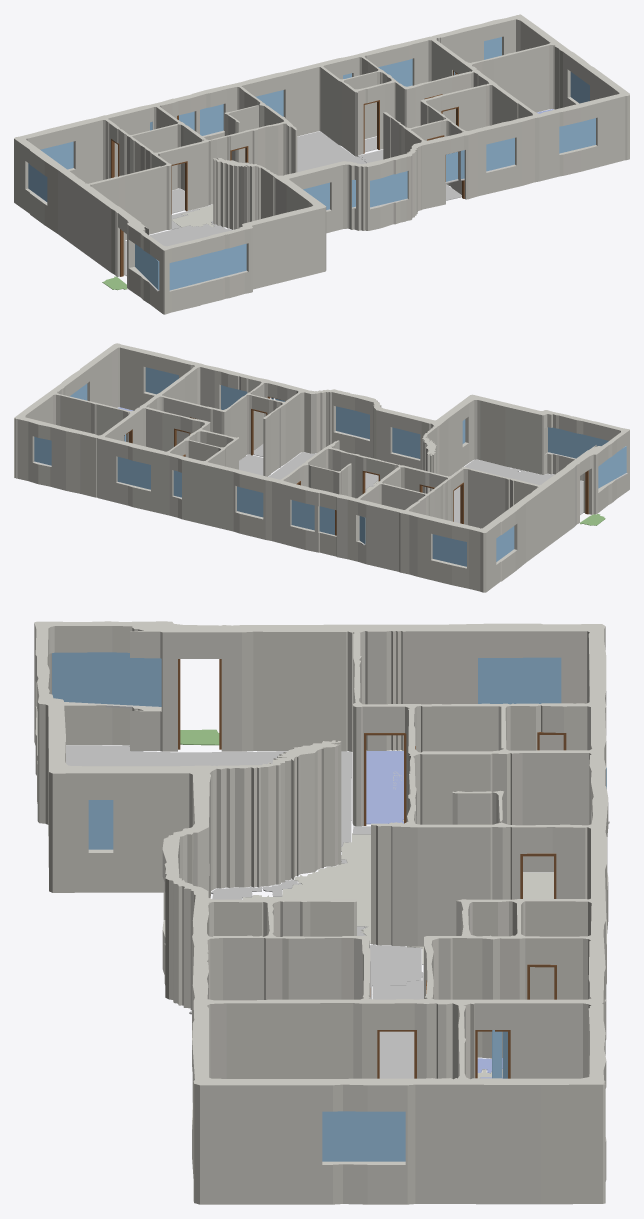
The picture shows the model from 3 angles, top to bottom: view 1: azimuth 30°, elevation 25°; view 2: azimuth 150°, elevation 25°; view 3: azimuth 270°, elevation 25°; orthographic projection. The views are drawn at different scales.
Parts seen in each view (by area): view 1: walls, window_36, floor_2_Kitchen, window_33, floor_3_Living_Room, window_28, window_29, window_34, window_15, floor_19_Undefined, window_21, window_16 (+2 smaller); view 2: walls, floor_3_Living_Room, window_36, window_16, window_33, window_21, window_27, window_34, window_18, floor_4_Living_Room, window_28, window_15 (+5 smaller); view 3: walls, window_34, floor_3_Living_Room, window_26, floor_19_Undefined, window_23, floor_7_Bed_Room, floor_4_Living_Room, floor_15_Entry, window_35, floor_2_Kitchen, floor_32_Undefined.
Boxes of the visible parts, x1,y1,x2,y2 form: walls: (14, 14, 629, 314); window_36: (169, 243, 246, 290); floor_2_Kitchen: (297, 131, 366, 172); window_33: (370, 171, 407, 207); floor_3_Living_Room: (125, 221, 232, 275); window_28: (559, 118, 595, 153); window_29: (486, 138, 514, 171); window_34: (135, 244, 159, 289); window_15: (200, 104, 223, 135); floor_19_Undefined: (171, 204, 214, 227); window_21: (378, 58, 412, 86); window_16: (40, 141, 73, 169); walls: (14, 343, 629, 592); floor_3_Living_Room: (454, 459, 583, 523); window_36: (548, 427, 608, 458); window_16: (432, 534, 466, 566); window_33: (336, 406, 369, 439); window_21: (117, 457, 150, 489); window_27: (392, 427, 420, 458); window_34: (598, 446, 626, 488); window_18: (237, 486, 263, 517); floor_4_Living_Room: (268, 452, 378, 491); window_28: (145, 367, 178, 394); window_15: (291, 500, 314, 530); walls: (34, 621, 608, 1204); window_34: (52, 652, 161, 706); floor_3_Living_Room: (66, 745, 351, 863); window_26: (322, 1111, 405, 1161); floor_19_Undefined: (242, 833, 370, 943); window_23: (478, 657, 561, 704); floor_7_Bed_Room: (366, 751, 403, 824); floor_4_Living_Room: (211, 887, 423, 999); floor_15_Entry: (379, 1031, 414, 1078); window_35: (88, 800, 113, 849); floor_2_Kitchen: (372, 964, 423, 999); floor_32_Undefined: (523, 872, 553, 898).
Size of the model in its own units: 23.04 by 2.72 by 11.8.
